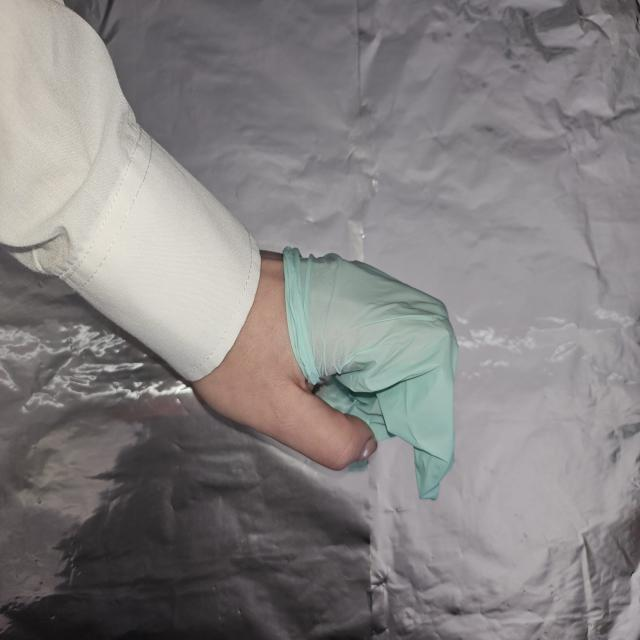glove_partial: (192, 246, 457, 502)
